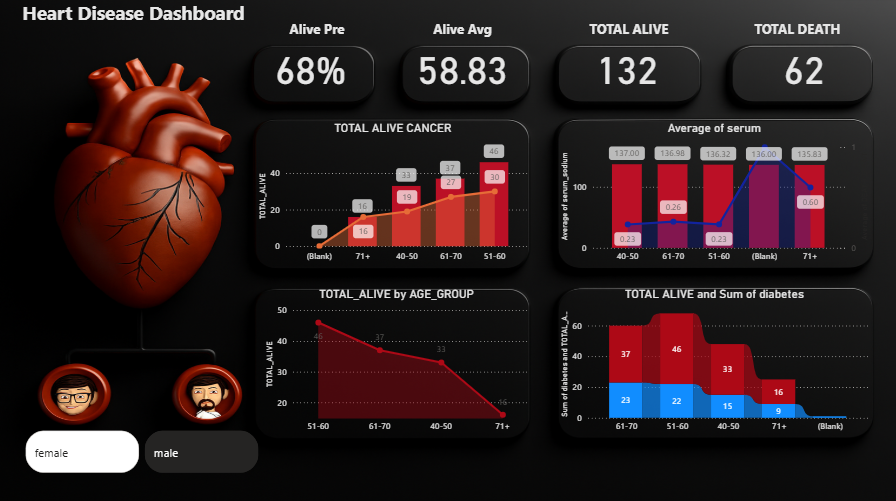

What the dashboard file says about the page in this screenshot:
{"tool":"powerbi","page":{"name":"Page 1","canvas":[1280,720],"ordinal":0},"visuals":[{"type":"card","fields":{"Values":["heart_Disease_clinical_records_.Alive_prc"]},"box":[360,43.9,174.3,109.1],"z":0},{"type":"textbox","box":[0,0,392.6,75.1],"z":1000},{"type":"card","fields":{"Values":["heart_Disease_clinical_records_.alive_age"]},"box":[564.1,43.9,195.6,109.1],"z":2000},{"type":"card","fields":{"Values":["heart_Disease_clinical_records_.TOTAL_ALIVE"]},"box":[806.5,43.9,178.6,109.1],"z":3000},{"type":"card","fields":{"Values":["heart_Disease_clinical_records_.TOTAL_DEATH"]},"box":[1050.2,43.9,192.8,109.1],"z":4000},{"type":"lineClusteredColumnComboChart","title":"Average of serum","fields":{"Category":["heart_Disease_clinical_records_.AGE_GROUP"],"Y":["Avg(heart_Disease_clinical_records_.serum_sodium)"],"Y2":["Avg(heart_Disease_clinical_records_.DEATH_EVENT)"]},"box":[796.5,177.2,446.5,209.8],"z":5000},{"type":"lineClusteredColumnComboChart","title":"TOTAL ALIVE CANCER","fields":{"Y":["heart_Disease_clinical_records_.TOTAL_ALIVE"],"Y2":["Sum(heart_Disease_clinical_records_.cancer)"],"Category":["heart_Disease_clinical_records_.AGE_GROUP"]},"box":[368.5,177.2,391.2,209.8],"z":6000},{"type":"lineChart","fields":{"Category":["heart_Disease_clinical_records_.AGE_GROUP"],"Y":["heart_Disease_clinical_records_.TOTAL_ALIVE"]},"box":[378.4,412.4,381.3,215.4],"z":7000},{"type":"ribbonChart","title":"TOTAL ALIVE and Sum of diabetes","fields":{"Category":["heart_Disease_clinical_records_.AGE_GROUP"],"Y":["Sum(heart_Disease_clinical_records_.diabetes)","heart_Disease_clinical_records_.TOTAL_ALIVE"]},"box":[796.5,412.4,446.5,215.4],"z":8000},{"type":"advancedSlicerVisual","fields":{"Values":["heart_Disease_clinical_records_.Gender"]},"box":[38.3,610.9,340.2,70.9],"z":9000},{"type":"textbox","box":[378.4,28.3,155.9,70.9],"z":10000},{"type":"textbox","box":[581.1,28.3,163,35.4],"z":11000},{"type":"textbox","box":[796.5,28.3,204.1,35.4],"z":12000},{"type":"textbox","box":[1031.8,28.3,211.2,35.4],"z":13000}]}

Visuals, with their boxes in screenshot pixels (x1, y1, x2, y2), scaled from the page's 1280x720 canvas onto the 896x501 screenshot:
card - heart_Disease_clinical_records_.Alive_prc: detection(252, 31, 374, 106)
textbox: detection(0, 0, 275, 52)
card - heart_Disease_clinical_records_.alive_age: detection(395, 31, 532, 106)
card - heart_Disease_clinical_records_.TOTAL_ALIVE: detection(565, 31, 690, 106)
card - heart_Disease_clinical_records_.TOTAL_DEATH: detection(735, 31, 870, 106)
"Average of serum" lineClusteredColumnComboChart: detection(558, 123, 870, 269)
"TOTAL ALIVE CANCER" lineClusteredColumnComboChart: detection(258, 123, 532, 269)
lineChart - heart_Disease_clinical_records_.AGE_GROUP x heart_Disease_clinical_records_.TOTAL_ALIVE: detection(265, 287, 532, 437)
"TOTAL ALIVE and Sum of diabetes" ribbonChart: detection(558, 287, 870, 437)
advancedSlicerVisual - heart_Disease_clinical_records_.Gender: detection(27, 425, 265, 474)
textbox: detection(265, 20, 374, 69)
textbox: detection(407, 20, 521, 44)
textbox: detection(558, 20, 700, 44)
textbox: detection(722, 20, 870, 44)
